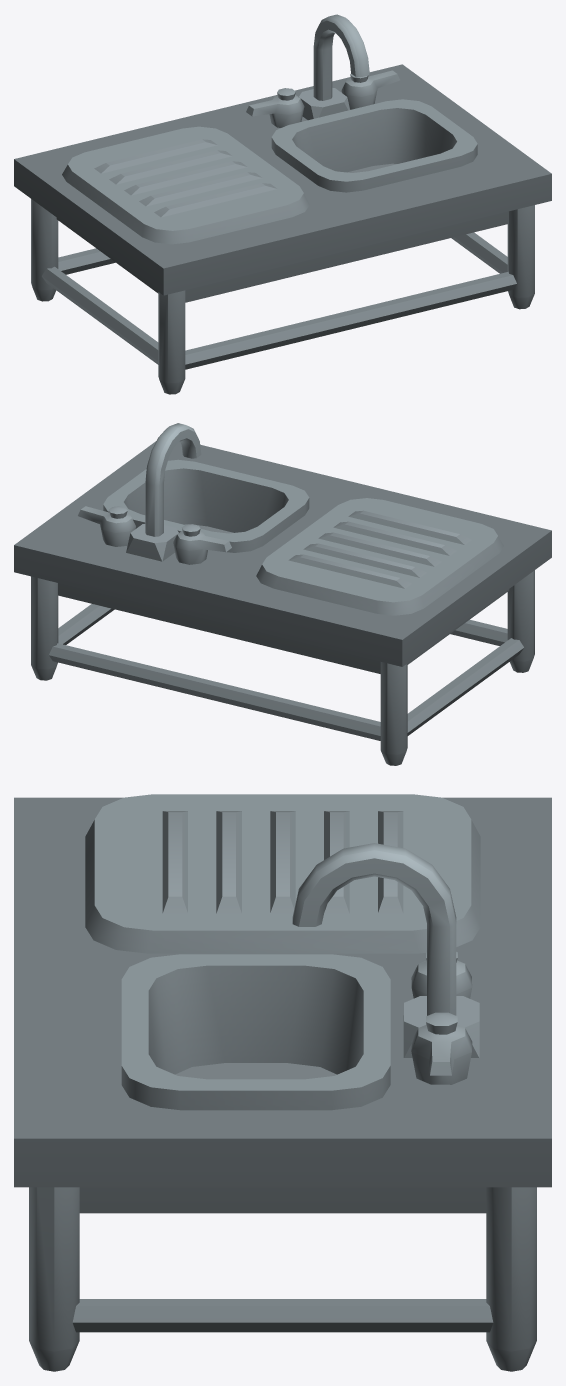
The model's file is Table with sink.glb.
3 views of the same model, one above another, from view 1: azimuth 30°, elevation 25°; view 2: azimuth 150°, elevation 25°; view 3: azimuth 270°, elevation 25° (orthographic). The views are drawn at different scales.
Parts seen in each view (by area): view 1: kitchentable_sink_large; view 2: kitchentable_sink_large; view 3: kitchentable_sink_large.
Part boxes in pixels (x1,y1,x2,y2): kitchentable_sink_large: (14, 14, 551, 394); kitchentable_sink_large: (14, 423, 551, 765); kitchentable_sink_large: (14, 794, 551, 1371).
Size of the model in its own units: 3 by 1.8 by 2.
1 material, 1 textured.
